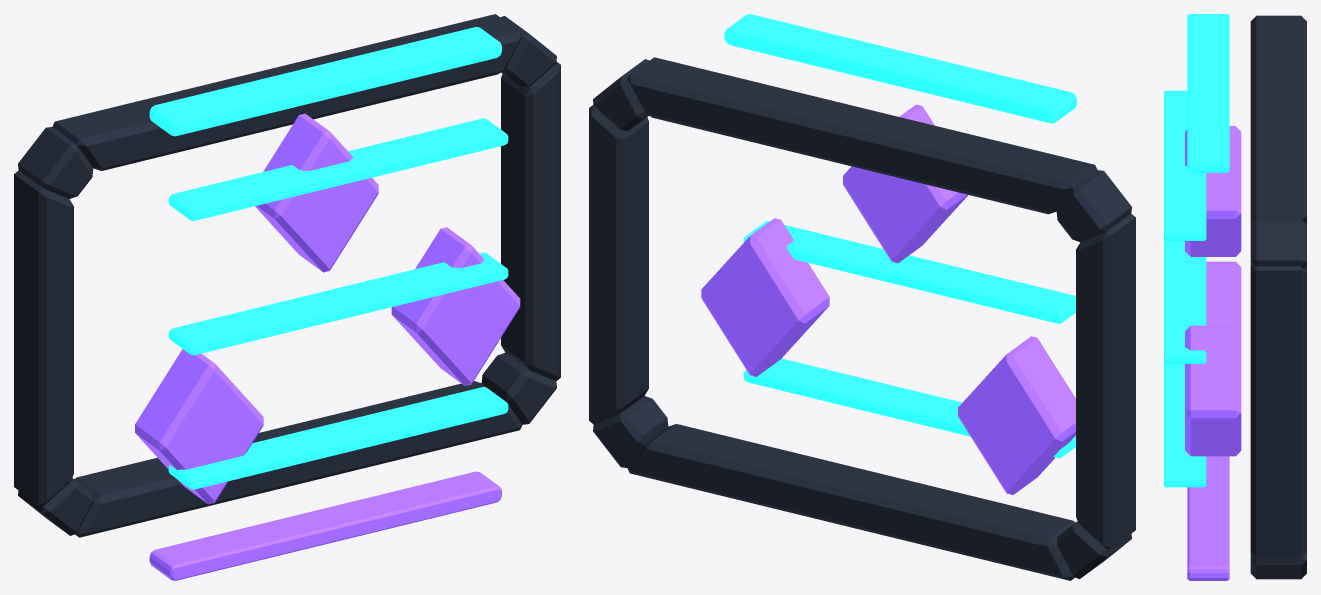
File: tech-redux.glb
3 views of the same model, side by side, from view 1: azimuth 30°, elevation 25°; view 2: azimuth 150°, elevation 25°; view 3: azimuth 270°, elevation 25° (orthographic). The views are drawn at different scales.
Visible parts, largest first — view 1: tech-redux_SystemMaterial, tech-redux_SignalMaterial, tech-redux_AccentMaterial; view 2: tech-redux_SystemMaterial, tech-redux_AccentMaterial, tech-redux_SignalMaterial; view 3: tech-redux_SystemMaterial, tech-redux_SignalMaterial, tech-redux_AccentMaterial.
Boxes of the visible parts, box(x1,y1,x2,y2) form: tech-redux_SystemMaterial: box(14, 14, 560, 537); tech-redux_SignalMaterial: box(149, 27, 508, 489); tech-redux_AccentMaterial: box(135, 113, 520, 580); tech-redux_SystemMaterial: box(589, 57, 1135, 580); tech-redux_AccentMaterial: box(701, 104, 1075, 494); tech-redux_SignalMaterial: box(724, 14, 1076, 458); tech-redux_SystemMaterial: box(1250, 15, 1306, 579); tech-redux_SignalMaterial: box(1164, 14, 1229, 487); tech-redux_AccentMaterial: box(1185, 126, 1241, 580).
Size of the model in its own units: 1.18 by 0.995 by 0.305.
